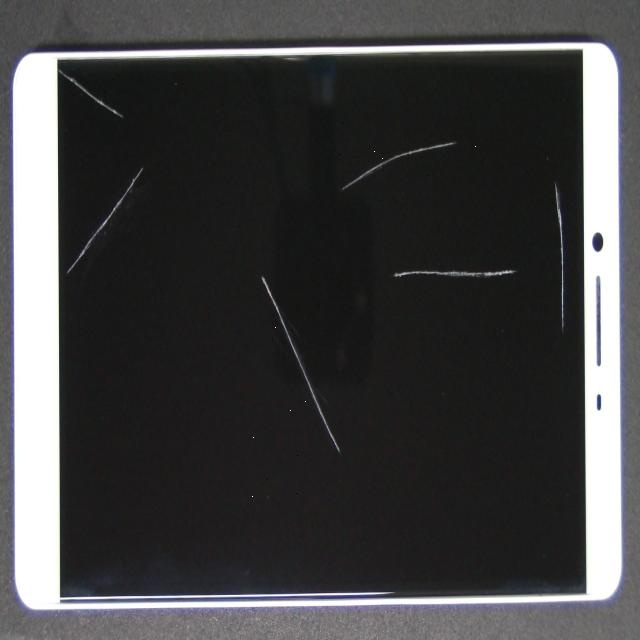scratch: (76, 18, 427, 530), (164, 108, 492, 327)
